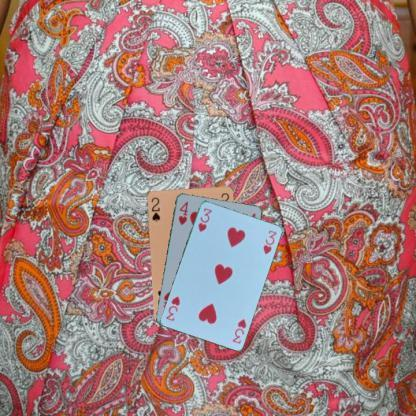2s: (148, 194, 162, 224)
3h: (230, 316, 248, 345), (195, 205, 213, 233)
4h: (176, 199, 190, 226)
